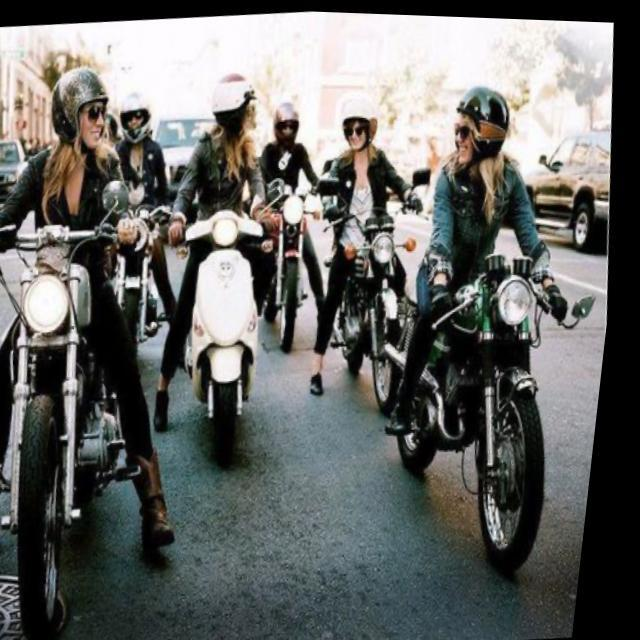Helmet: (444, 79, 514, 177), (48, 56, 110, 152)
